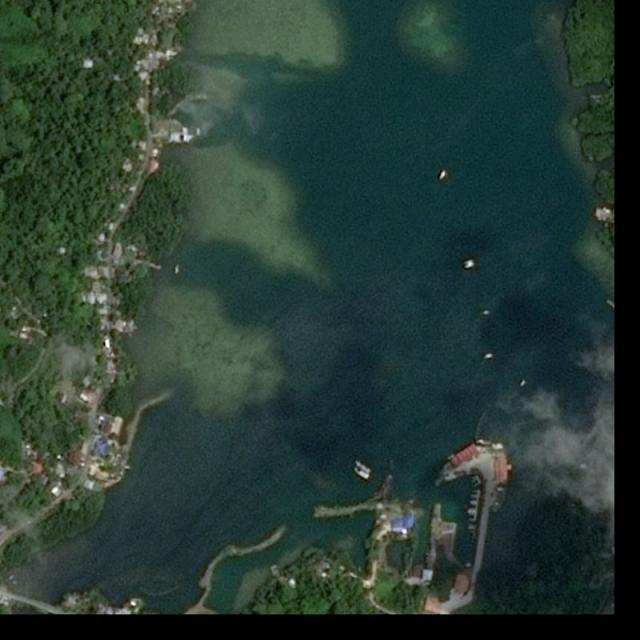ship: (351, 466, 373, 482), (354, 459, 374, 474), (438, 169, 448, 181), (463, 259, 476, 268), (518, 378, 527, 388), (485, 352, 494, 362), (482, 309, 490, 320)
